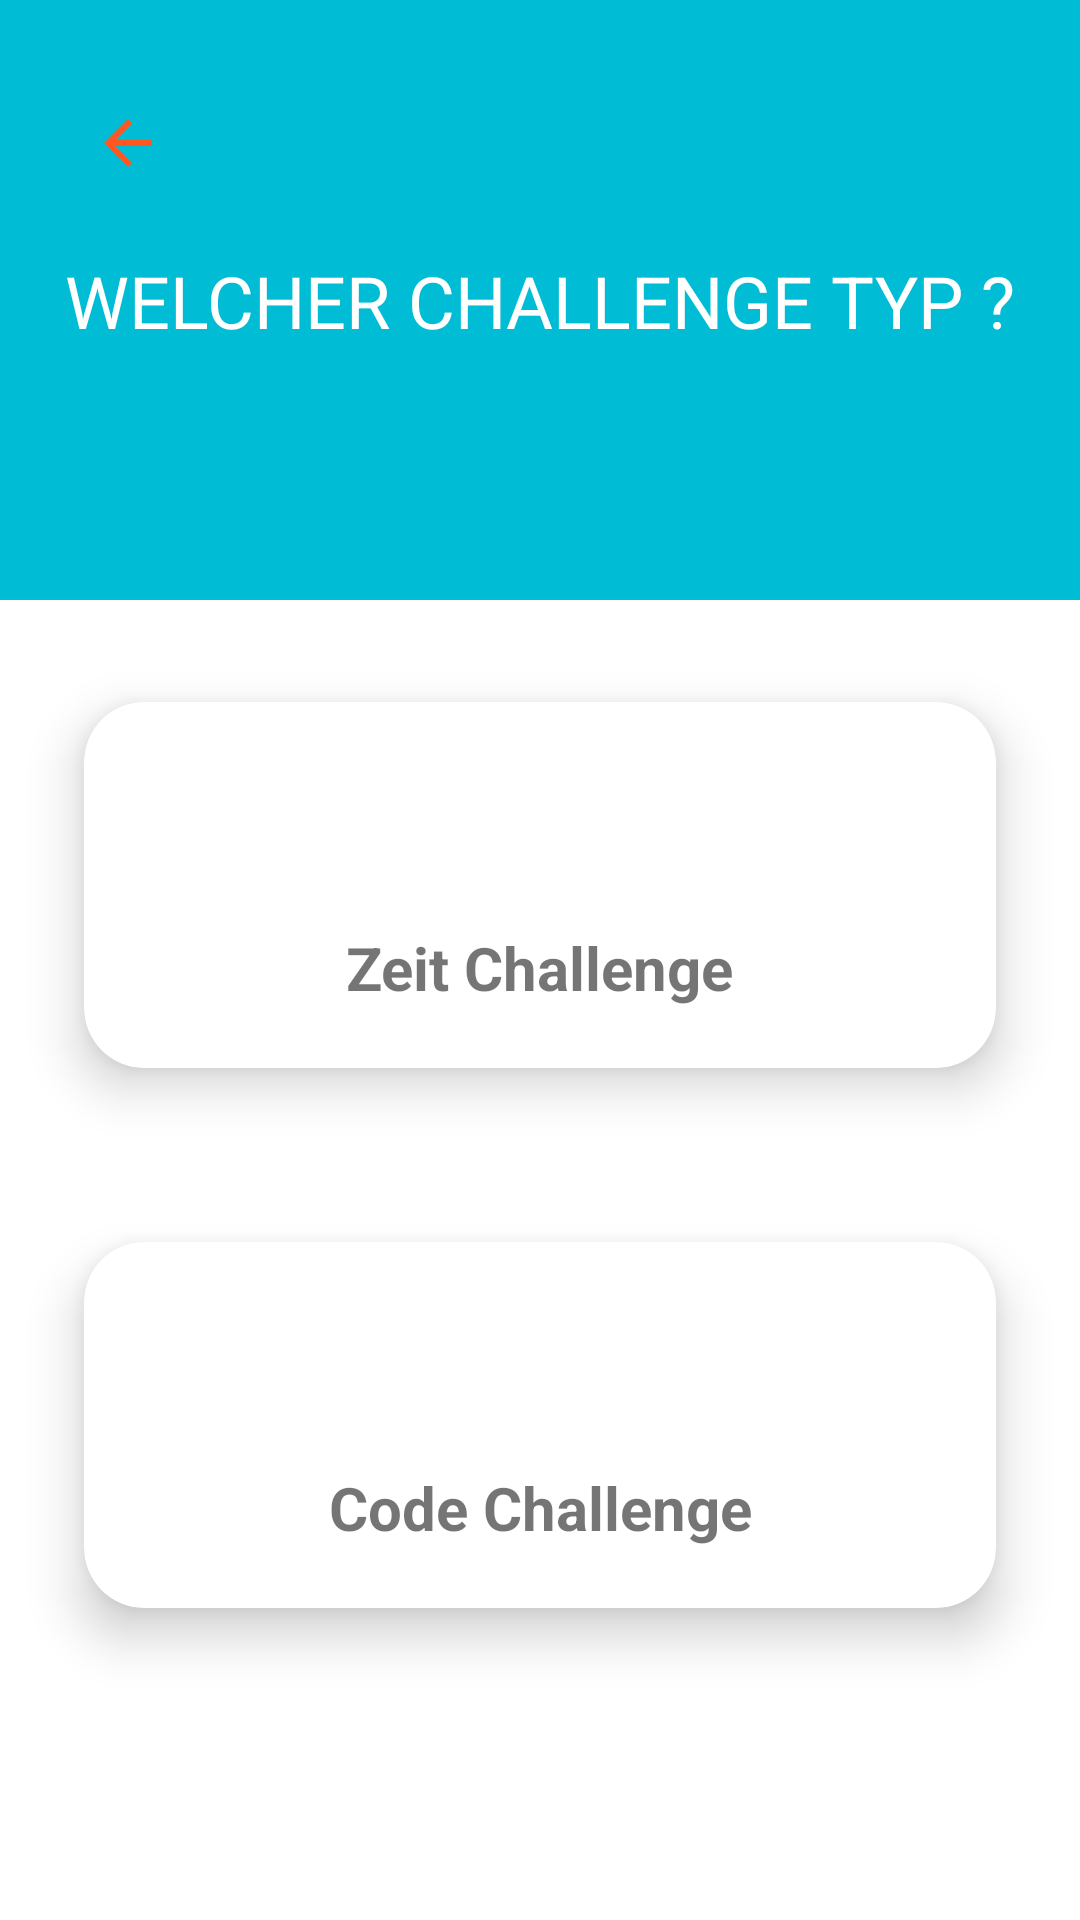

Icon click points for this 1080 × 1920 phone screenshot, format point (x, y):
back action: point (128, 143)
